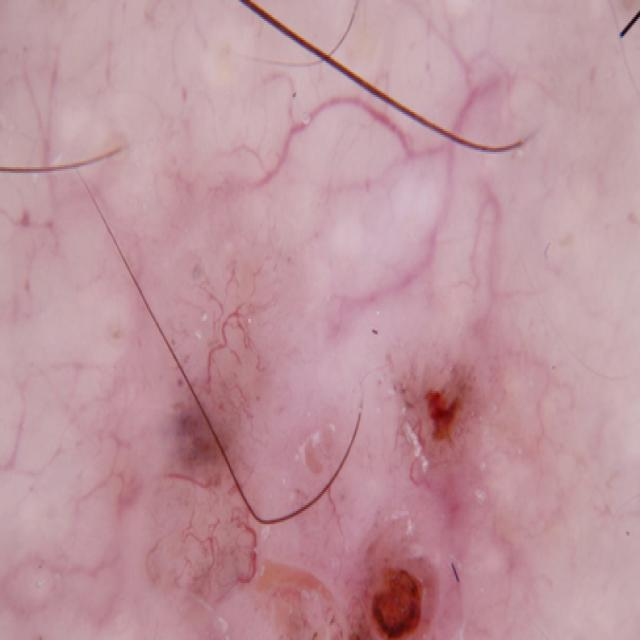Carcinoma: (312, 503, 509, 640), (380, 329, 521, 482)
